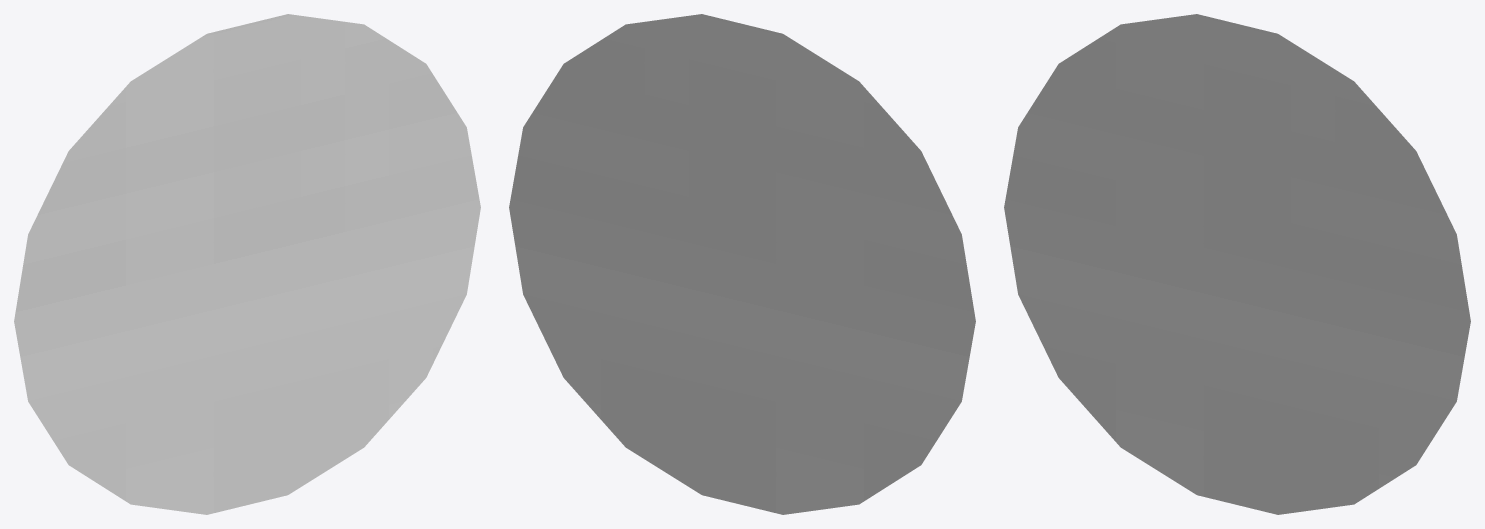
Rendered from pref_sm_city_billboardholo07_snow_lv1.fbx.
3 views of the same model, side by side, from view 1: azimuth 30°, elevation 25°; view 2: azimuth 150°, elevation 25°; view 3: azimuth 330°, elevation 25° (orthographic).
Visible parts, largest first — view 1: pref_sm_city_billboardholo07_snow_lv1; view 2: pref_sm_city_billboardholo07_snow_lv1; view 3: pref_sm_city_billboardholo07_snow_lv1.
Part boxes in pixels (left/top/right/bottom): pref_sm_city_billboardholo07_snow_lv1: left=14, top=14, right=480, bottom=514; pref_sm_city_billboardholo07_snow_lv1: left=509, top=14, right=975, bottom=514; pref_sm_city_billboardholo07_snow_lv1: left=1004, top=14, right=1470, bottom=514.
Size of the model in its own units: 2.53 by 2.49 by 1.19e-07.
